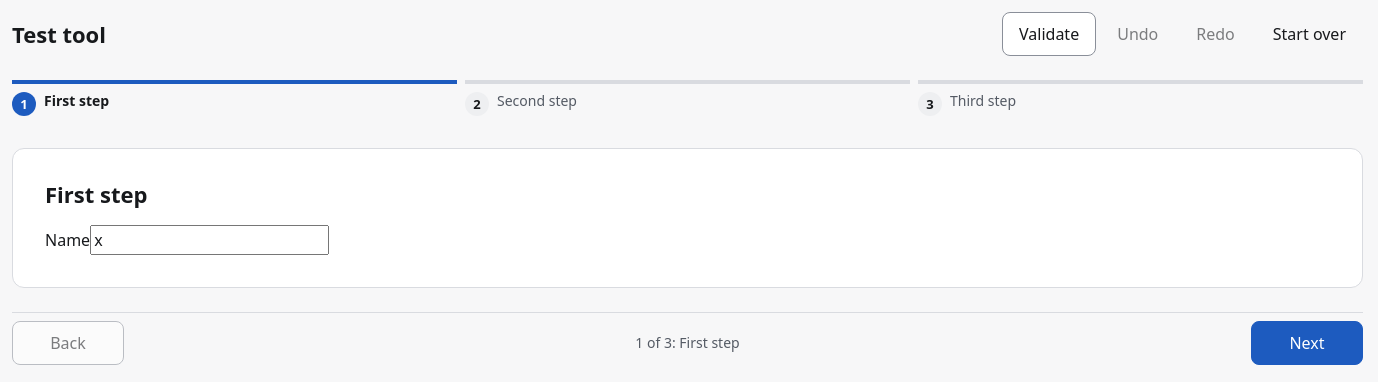
Test: Wizard › moves Back and Next and disables Next on the last step
Click the button "Next" at x=1307, y=343, box [1251, 321, 1363, 365]
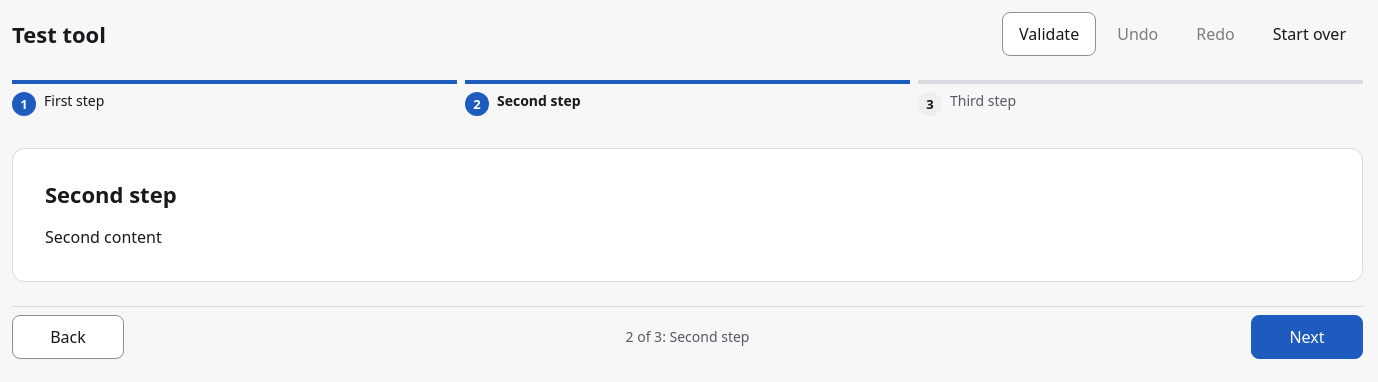
Click the button "Next" at x=1307, y=337, box [1251, 315, 1363, 359]
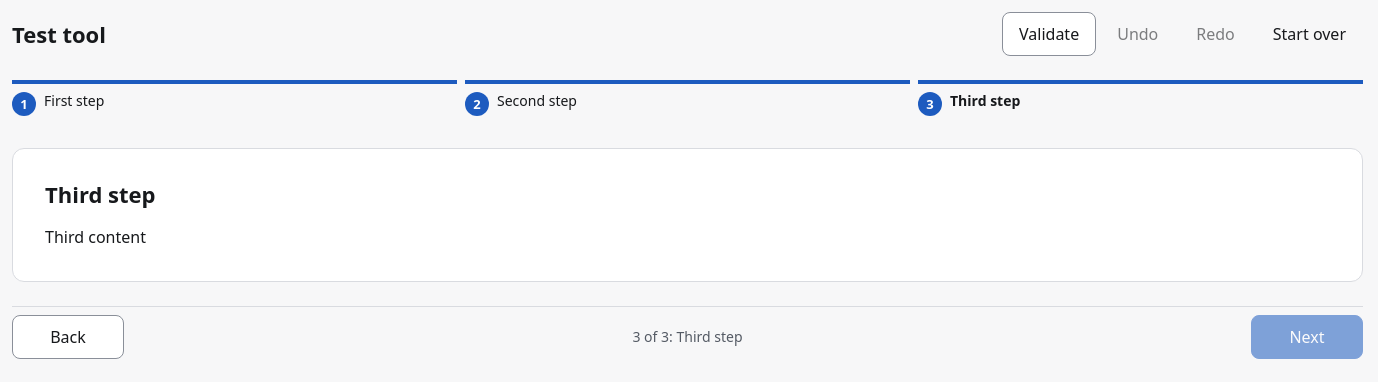
Expected: the heading reads "Third step", [45, 179, 156, 209]
Expected: the button "Next" is disabled, [1251, 315, 1363, 359]
Click the button "Back" at x=68, y=337, box [12, 315, 124, 359]
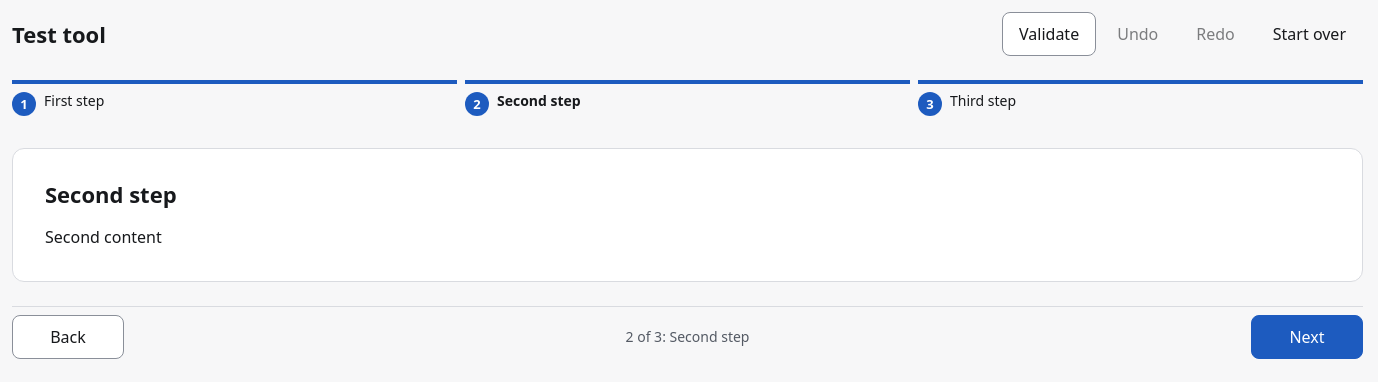
Expected: the heading reads "Second step", [45, 179, 177, 209]
